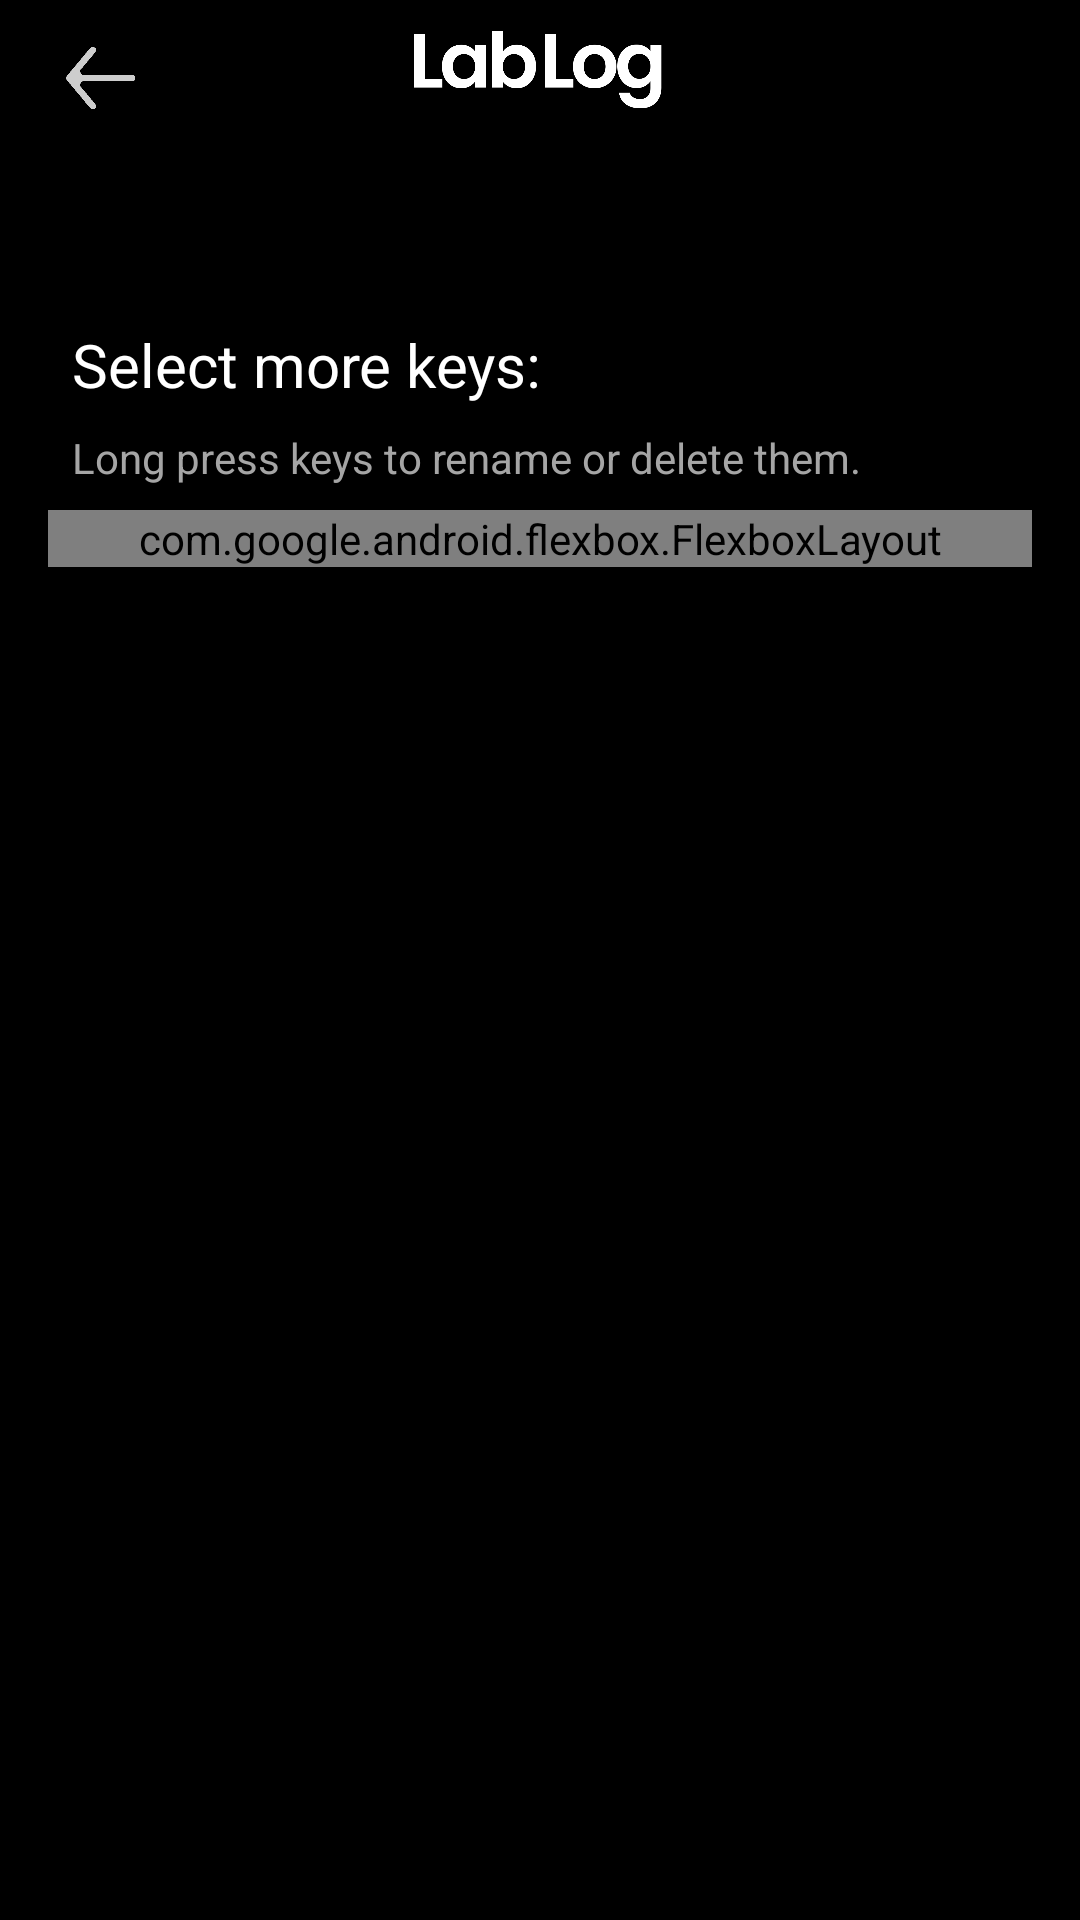

Locate icon controls on the screen. Image size 1080x1920, boxes as {"left": x1, "top": y1, "right": x2, "bottom": y2}.
back icon: {"left": 66, "top": 47, "right": 135, "bottom": 109}
